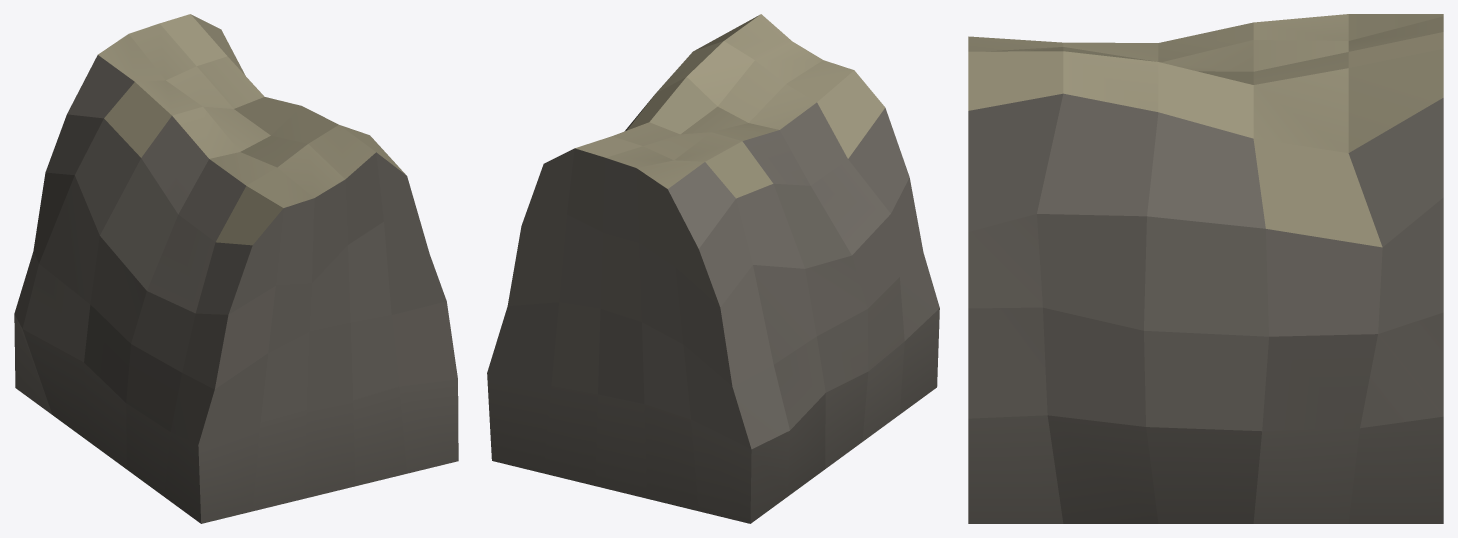
The model's file is roca_recta_3.glb.
3 renders of one model, left to right at view 1: azimuth 30°, elevation 25°; view 2: azimuth 150°, elevation 25°; view 3: azimuth 270°, elevation 25°, orthographic. The views are drawn at different scales.
Visible parts, largest first — view 1: propforge-cuartos-roca_recta; view 2: propforge-cuartos-roca_recta; view 3: propforge-cuartos-roca_recta.
Part boxes in pixels (box(x1,y1,x2,y2)): propforge-cuartos-roca_recta: box(14, 14, 458, 523); propforge-cuartos-roca_recta: box(487, 14, 939, 523); propforge-cuartos-roca_recta: box(968, 14, 1443, 523).
Bounding box in the file's own units: 0.9037 × 0.9838 × 1.
